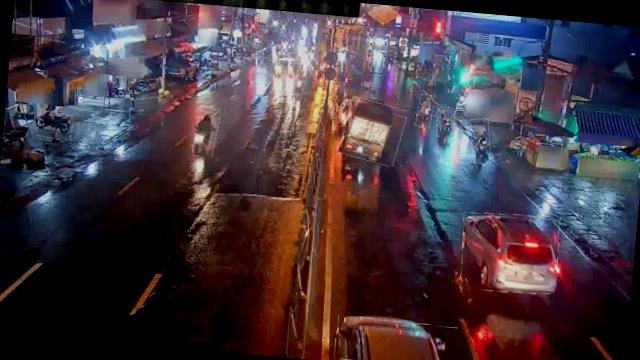Bike: (193, 106, 220, 158), (37, 111, 74, 141), (469, 118, 493, 164), (128, 78, 164, 102), (416, 94, 435, 128), (436, 110, 456, 138), (293, 71, 306, 96)
Car: (459, 209, 562, 296), (334, 316, 463, 360)
Truck: (340, 99, 406, 166)
